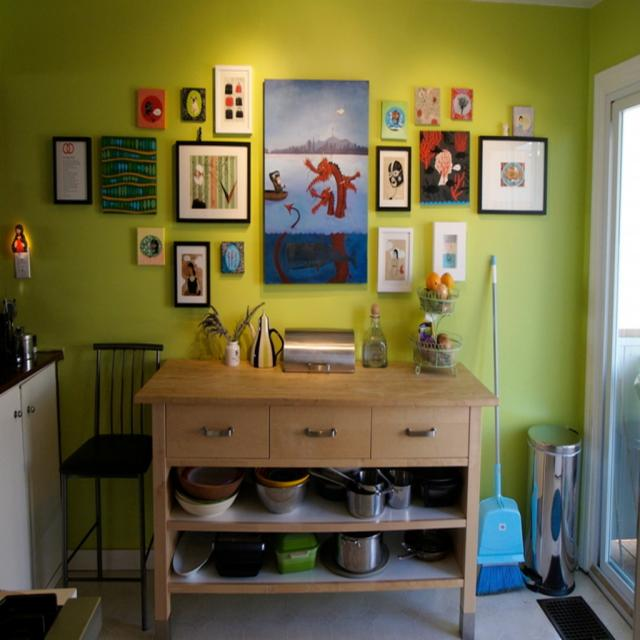chair: (59, 343, 162, 632)
desk: (119, 341, 508, 618)
